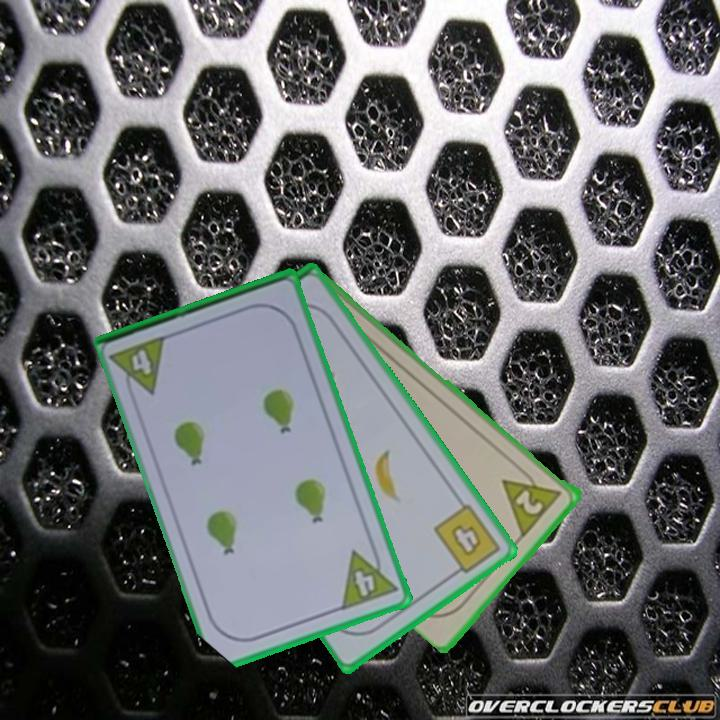2p: (512, 486, 547, 518)
4b: (430, 500, 504, 581)
4p: (338, 540, 401, 613), (108, 331, 171, 403)
